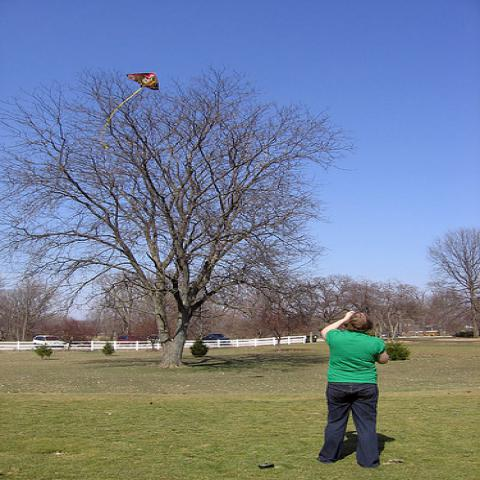car: (33, 334, 63, 345), (202, 334, 229, 340), (382, 331, 400, 336)
